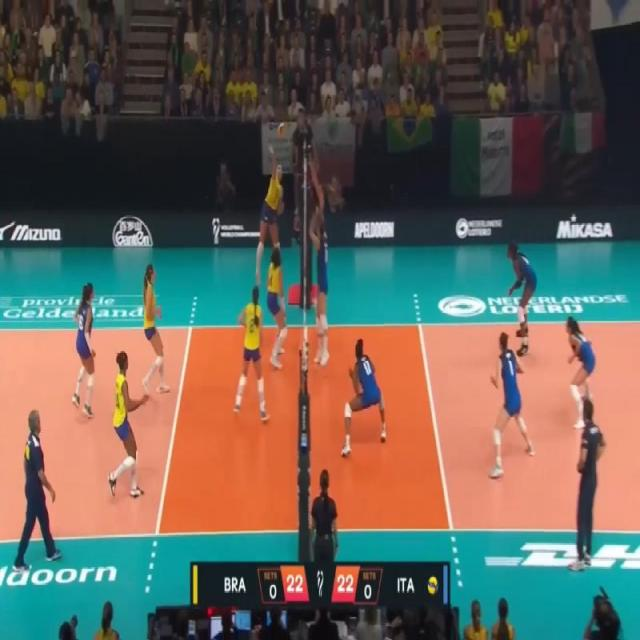volleyball: (276, 121, 285, 137)
